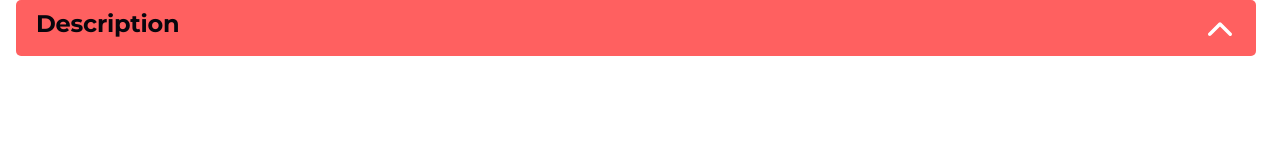
Test case: Collapse › se referme au second clic
The image size is (1273, 160).
Click the heading "Description" at point(108, 24), box [36, 10, 179, 38]
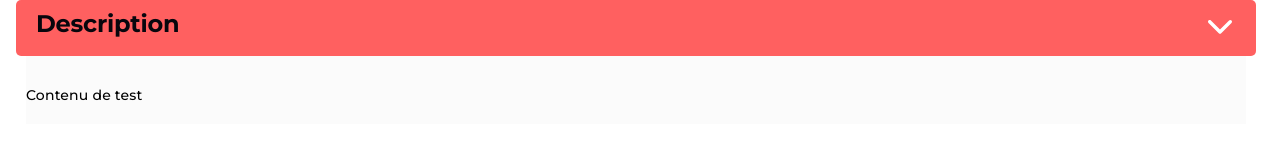
Click the heading "Description" at point(108, 24), box [36, 10, 179, 38]
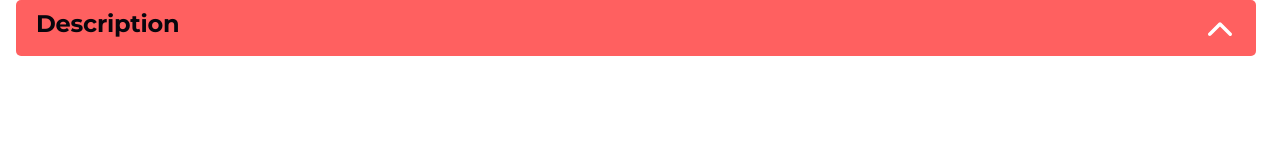
Expected: the picture with alt text "flèche" does not have class "open", [1204, 12, 1236, 44]
